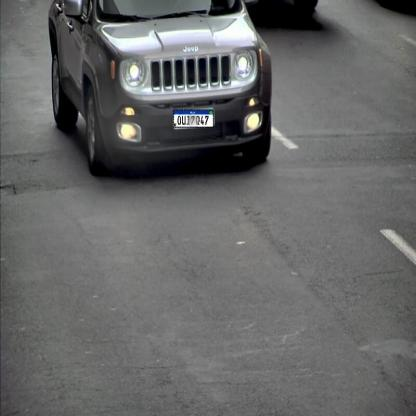PlacaM: (173, 110, 214, 127)
